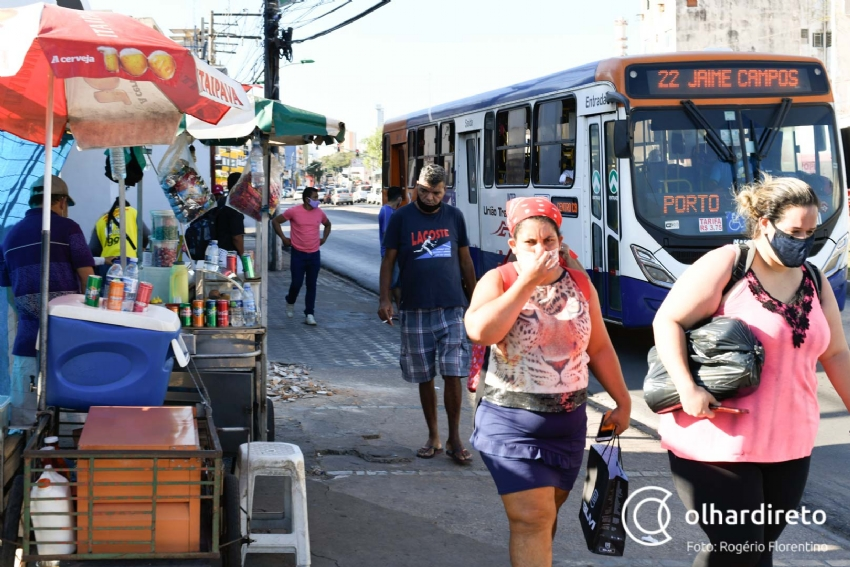mask_weared_incorrect: (413, 178, 448, 213)
